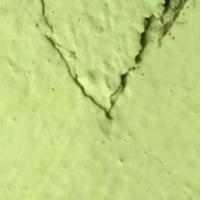crack: (34, 0, 188, 128)
